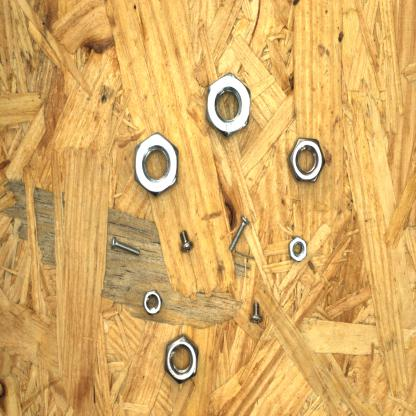screw: (226, 212, 253, 254), (110, 234, 142, 257), (176, 226, 196, 256), (246, 298, 266, 326)
